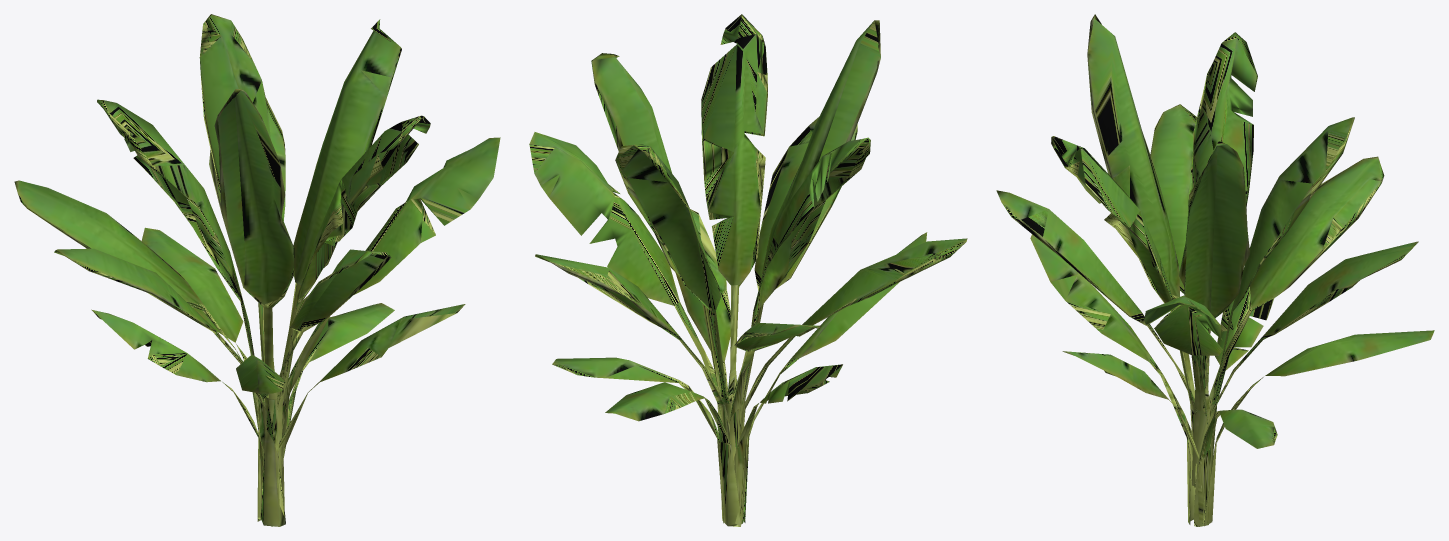
File: chuoi.glb
3 views of the same model, side by side, from view 1: azimuth 30°, elevation 25°; view 2: azimuth 150°, elevation 25°; view 3: azimuth 270°, elevation 25° (orthographic). The views are drawn at different scales.
Parts seen in each view (by area): view 1: Plane_0; view 2: Plane_0; view 3: Plane_0.
Part boxes in pixels (x1,y1,x2,y2): Plane_0: [14, 14, 500, 526]; Plane_0: [529, 14, 967, 526]; Plane_0: [996, 14, 1434, 526].
Bounding box in the file's own units: 0.9277 × 0.9972 × 0.8469.
Materials: 1 (1 with a texture image).
